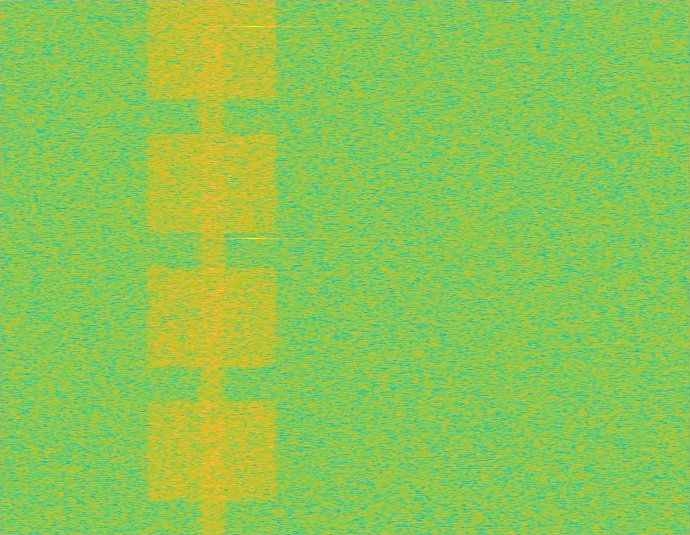5G: (143, 0, 281, 534)
DSSS: (197, 0, 228, 534)
Radar: (246, 0, 260, 534)
